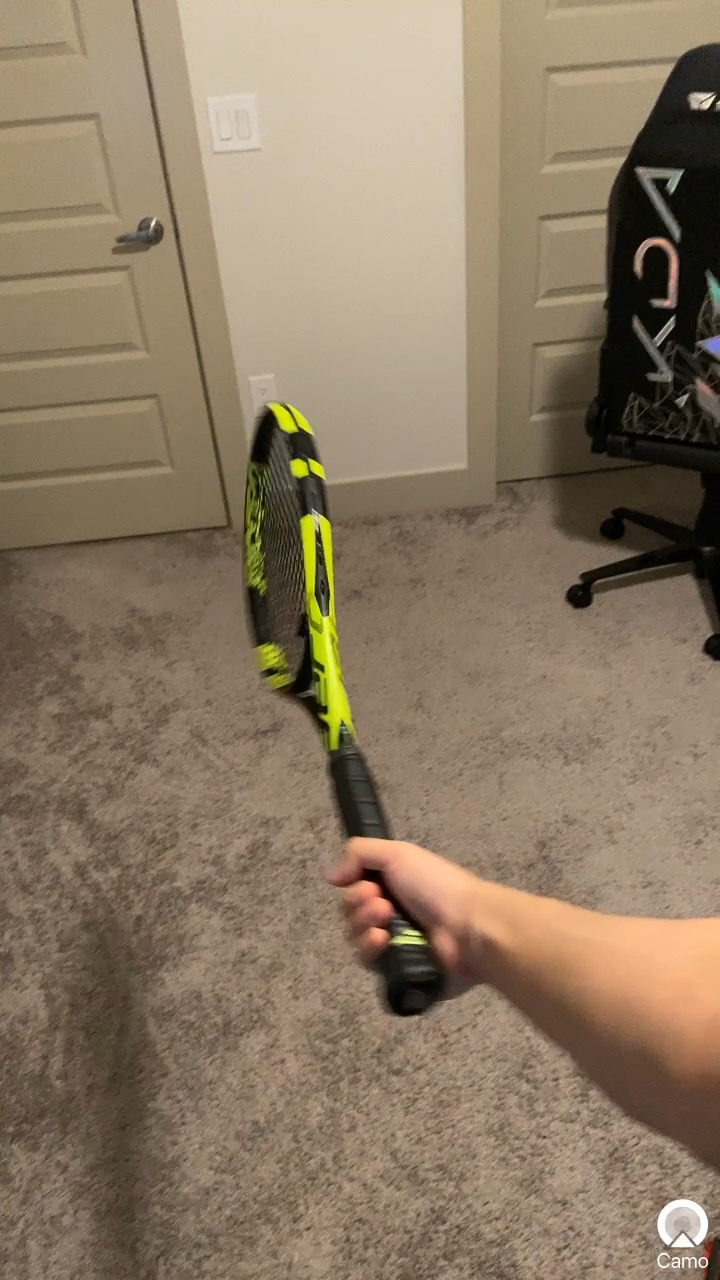Tennis_Racquet: (185, 382, 481, 1036)
